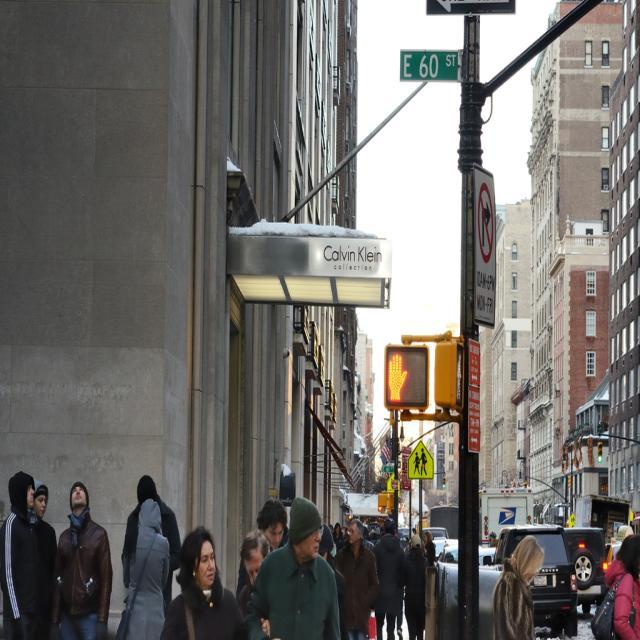traffic light: (598, 440, 603, 464)
